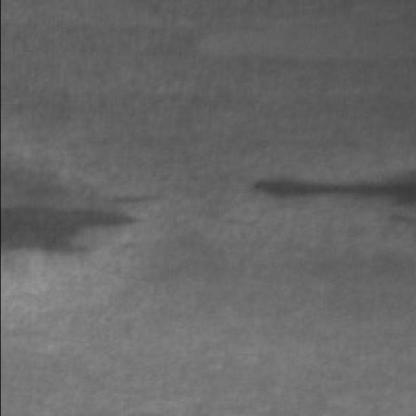inclusion: (241, 158, 412, 235), (0, 194, 148, 270)
